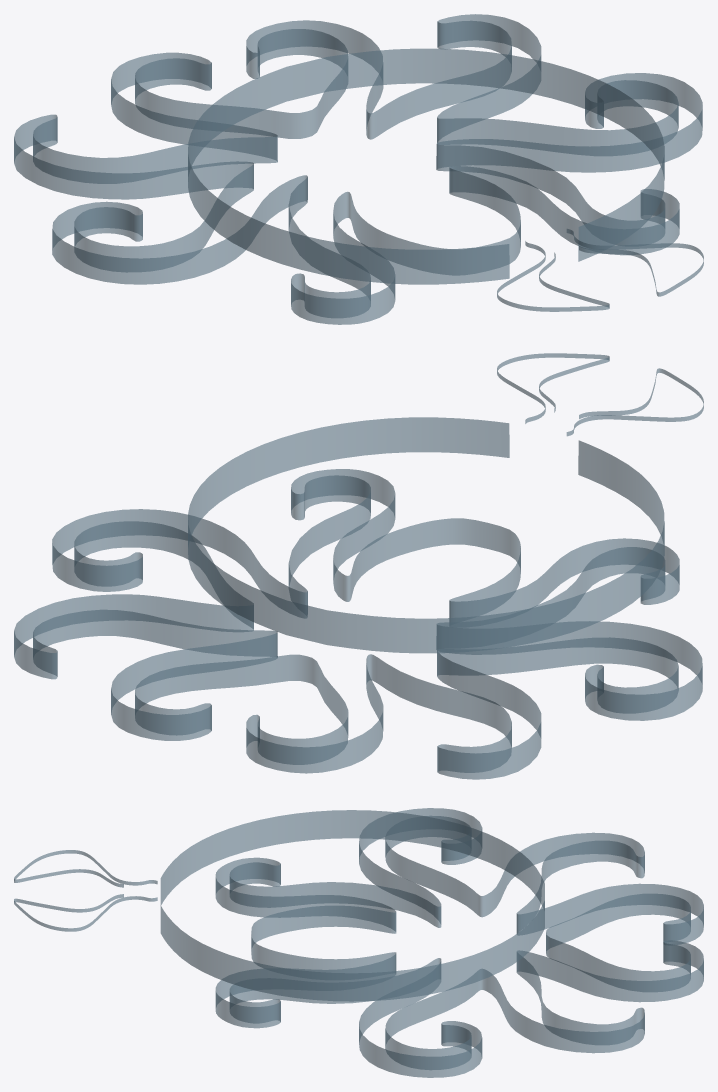
File: Large glasses.fbx
3 renders of one model, top to bottom at view 1: azimuth 30°, elevation 25°; view 2: azimuth 150°, elevation 25°; view 3: azimuth 270°, elevation 25°, orthographic. The views are drawn at different scales.
Parts seen in each view (by area): view 1: Cube.104, Cylinder.058, Cylinder.073; view 2: Cube.104, Cylinder.058, Cylinder.073; view 3: Cube.104, Cylinder.058, Cylinder.073.
Part boxes in pixels (left/top/right/bottom): Cube.104: left=14, top=14, right=702, bottom=324; Cylinder.058: left=188, top=48, right=664, bottom=284; Cylinder.073: left=497, top=229, right=703, bottom=311; Cube.104: left=14, top=469, right=702, bottom=779; Cylinder.058: left=188, top=417, right=664, bottom=653; Cylinder.073: left=497, top=353, right=703, bottom=436; Cube.104: left=215, top=808, right=703, bottom=1077; Cylinder.058: left=160, top=810, right=544, bottom=1001; Cylinder.073: left=14, top=850, right=157, bottom=931.
Size of the model in its own units: 14110 by 1708 by 16552.
